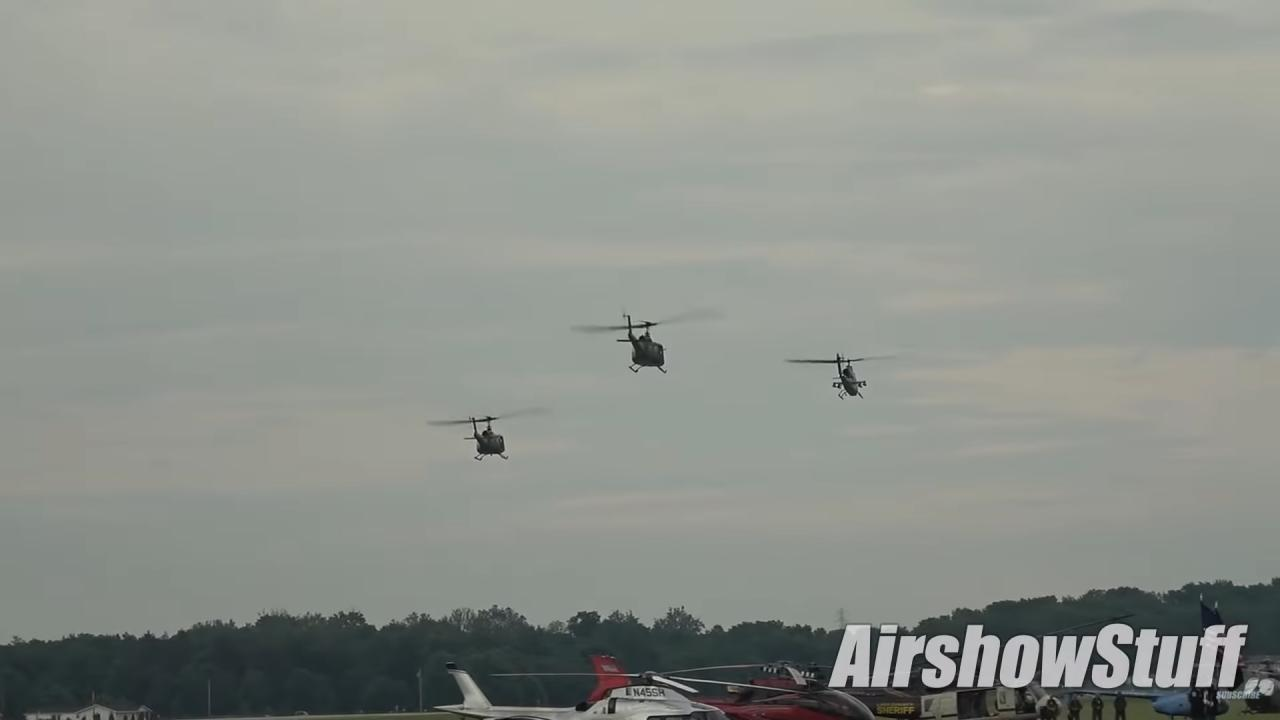Helicopter: (564, 291, 730, 387), (419, 395, 566, 477), (783, 338, 915, 418)
